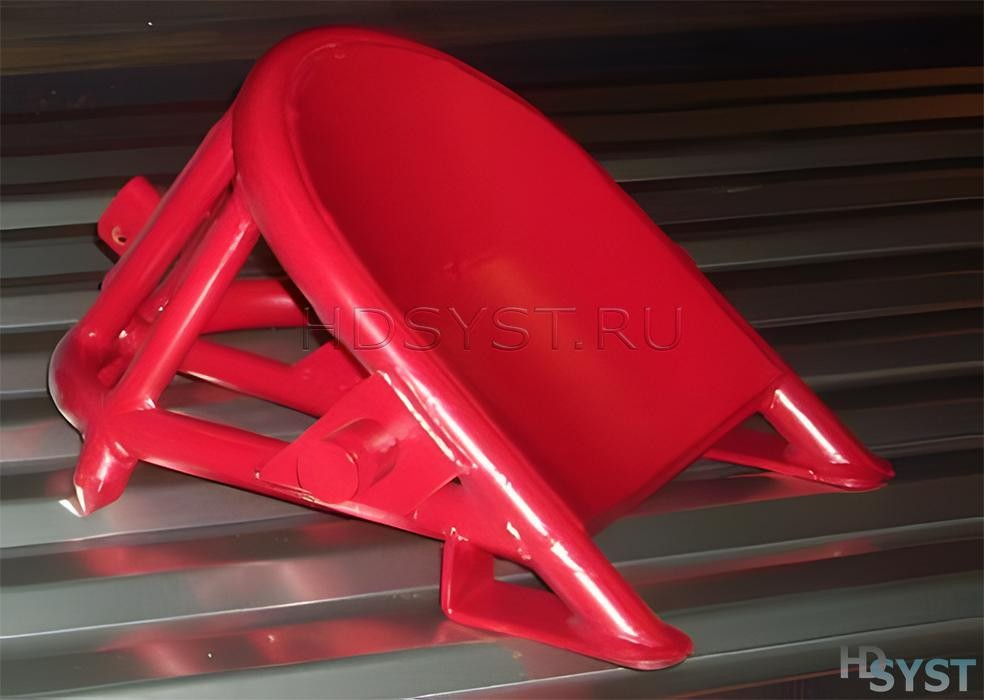chock: (17, 13, 903, 676)
